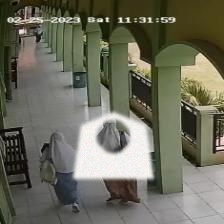Mukena: (73, 112, 153, 178)
